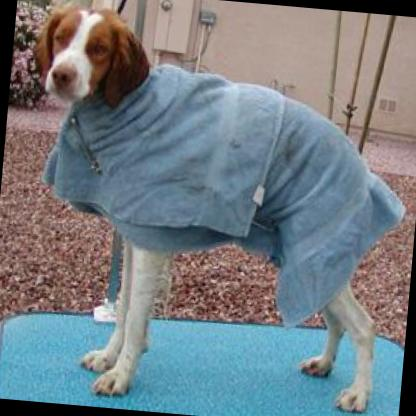Brittany_spaniel: (5, 0, 416, 416)
